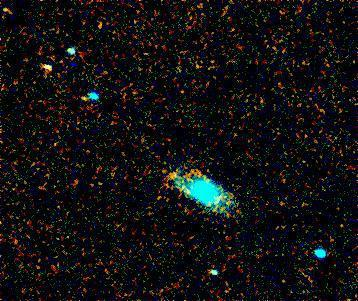star: (161, 159, 191, 189)
